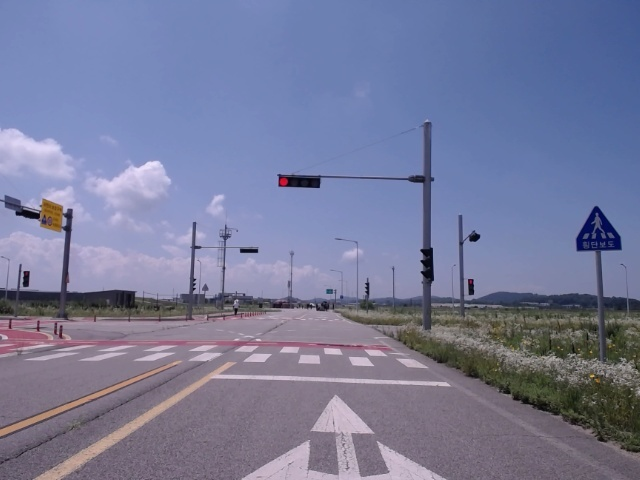red_4: (278, 176, 320, 188)
